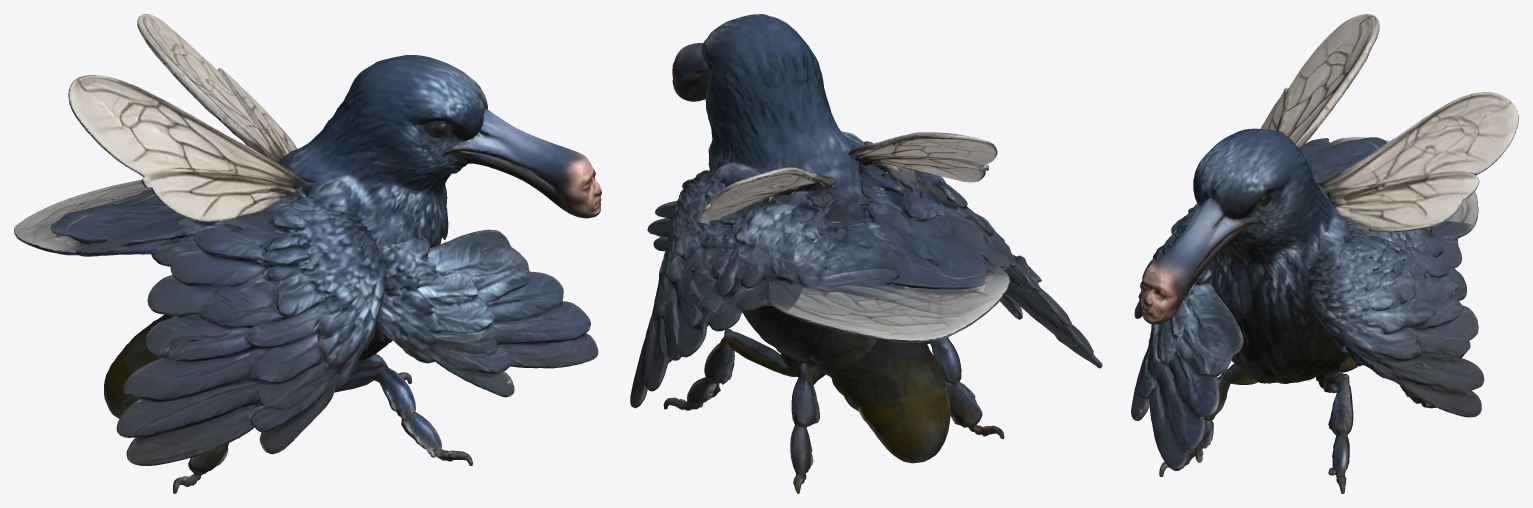
File: qinyuan.glb
The picture shows the model from 3 angles, left to right: view 1: azimuth 30°, elevation 25°; view 2: azimuth 150°, elevation 25°; view 3: azimuth 270°, elevation 25°; orthographic projection. The views are drawn at different scales.
Parts seen in each view (by area): view 1: geometry_0; view 2: geometry_0; view 3: geometry_0.
Part boxes in pixels (x1=…): geometry_0: x1=14, y1=14, x2=601, y2=493; geometry_0: x1=630, y1=14, x2=1102, y2=493; geometry_0: x1=1131, y1=14, x2=1518, y2=493.
Size of the model in its own units: 0.32 by 0.2452 by 0.2546.
Materials: 1 (1 with a texture image).
